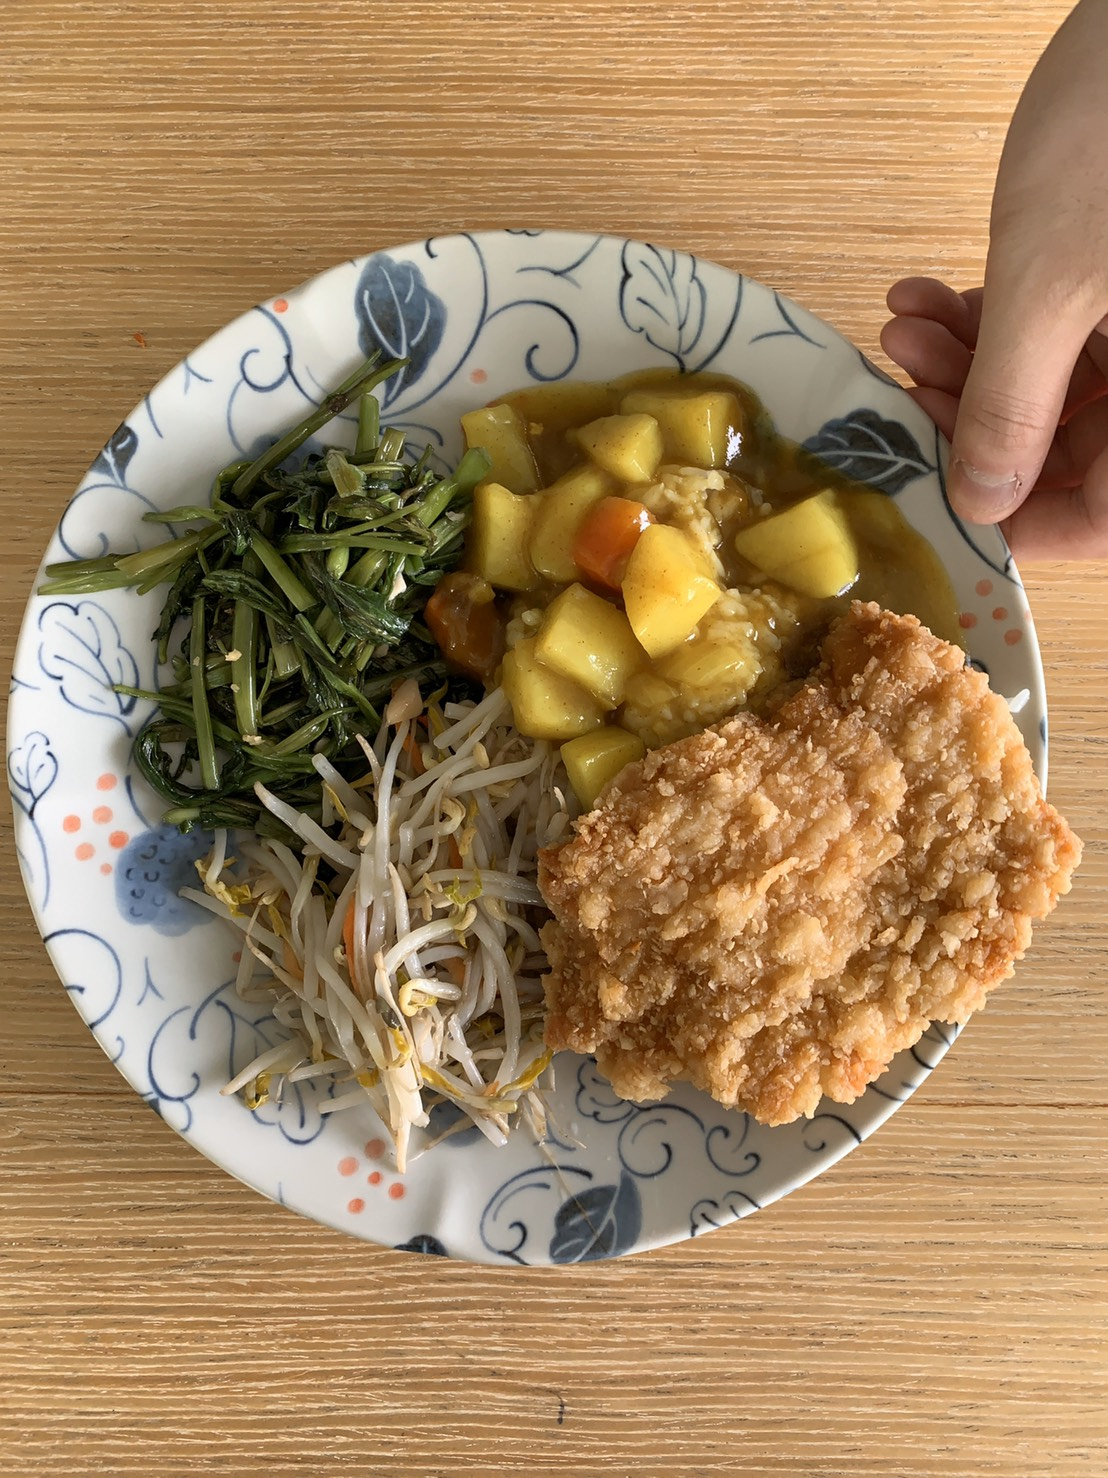curry: (507, 432, 794, 676)
fried_chicken: (609, 701, 1000, 1080)
mung_bean_sprouts: (319, 800, 525, 1071)
water_spinach: (172, 446, 386, 717)
